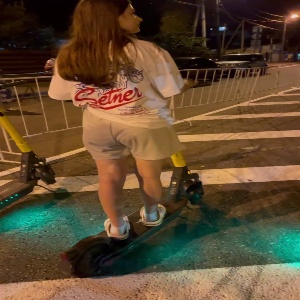human on a scooter: (47, 1, 212, 279)
